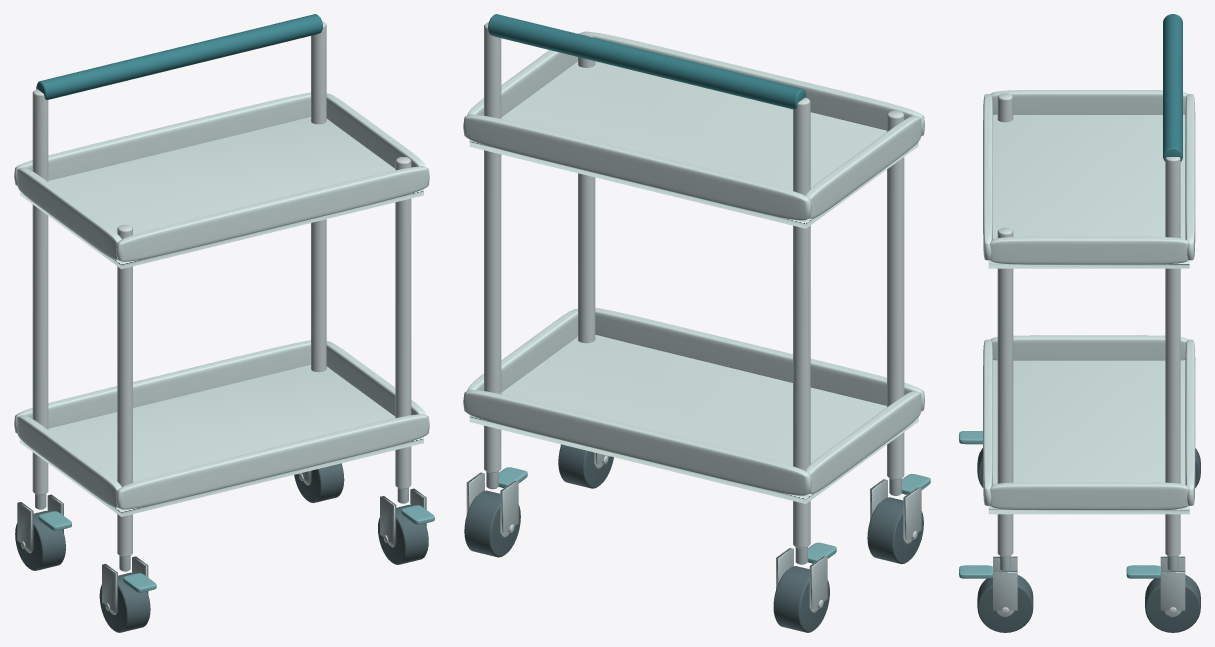
File: instrument_trolley.glb
3 views of the same model, side by side, from view 1: azimuth 30°, elevation 25°; view 2: azimuth 150°, elevation 25°; view 3: azimuth 270°, elevation 25° (orthographic). The views are drawn at different scales.
Visible parts, largest first — view 1: Tray_1_Floor, Tray_0_Floor, Tray_0_Front, Tray_1_Front, Tray_1_Back, Tray_0_Back, Push_Grip, Frame_Post_4, Frame_Post_1, Frame_Post_3, Tray_0_Left, Tray_1_Left (+12 smaller); view 2: Tray_0_Floor, Tray_1_Floor, Tray_0_Back, Tray_1_Back, Tray_0_Front, Push_Grip, Frame_Post_3, Frame_Post_1, Frame_Post_2, Tray_1_Front, Tray_0_Left, Tray_1_Left (+12 smaller); view 3: Tray_1_Floor, Tray_0_Floor, Tray_1_Right, Tray_0_Right, Frame_Post_4, Tray_0_Left, Frame_Post_2, Tray_1_Left, Push_Grip, Wheel_Tire_04, Wheel_Tire_02, Tray_1_Back (+9 smaller).
Part boxes in pixels (box(x1,y1,x2,y2)): Tray_1_Floor: box(20, 116, 423, 268); Tray_0_Floor: box(20, 364, 423, 516); Tray_0_Front: box(116, 414, 429, 509); Tray_1_Front: box(116, 166, 429, 261); Tray_1_Back: box(14, 92, 310, 185); Tray_0_Back: box(14, 340, 310, 433); Push_Grip: box(36, 14, 322, 99); Frame_Post_4: box(395, 157, 411, 488); Frame_Post_1: box(32, 168, 48, 494); Frame_Post_3: box(117, 224, 132, 556); Tray_0_Left: box(17, 415, 121, 507); Tray_1_Left: box(17, 167, 121, 259); Tray_0_Floor: box(469, 334, 918, 503); Tray_1_Floor: box(469, 61, 918, 228); Tray_0_Back: box(463, 390, 811, 495); Tray_1_Back: box(463, 114, 811, 220); Tray_0_Front: box(595, 308, 924, 411); Push_Grip: box(488, 14, 806, 109); Frame_Post_3: box(887, 110, 904, 479); Frame_Post_1: box(793, 184, 810, 548); Frame_Post_2: box(484, 109, 501, 472); Tray_1_Front: box(579, 31, 924, 135); Tray_0_Left: box(805, 391, 921, 493); Tray_1_Left: box(805, 116, 921, 218); Tray_1_Floor: box(988, 114, 1189, 268); Tray_0_Floor: box(988, 360, 1189, 514); Tray_1_Right: box(990, 236, 1188, 264); Tray_0_Right: box(990, 482, 1188, 510); Frame_Post_4: box(997, 227, 1013, 556); Tray_0_Left: box(990, 335, 1187, 360); Frame_Post_2: box(1165, 233, 1180, 556); Tray_1_Left: box(990, 90, 1187, 114); Push_Grip: box(1163, 14, 1182, 161); Wheel_Tire_04: box(977, 575, 1033, 632); Wheel_Tire_02: box(1145, 575, 1200, 632); Tray_1_Back: box(1185, 94, 1195, 260).
Size of the model in its own units: 0.644 by 0.948 by 0.433.
